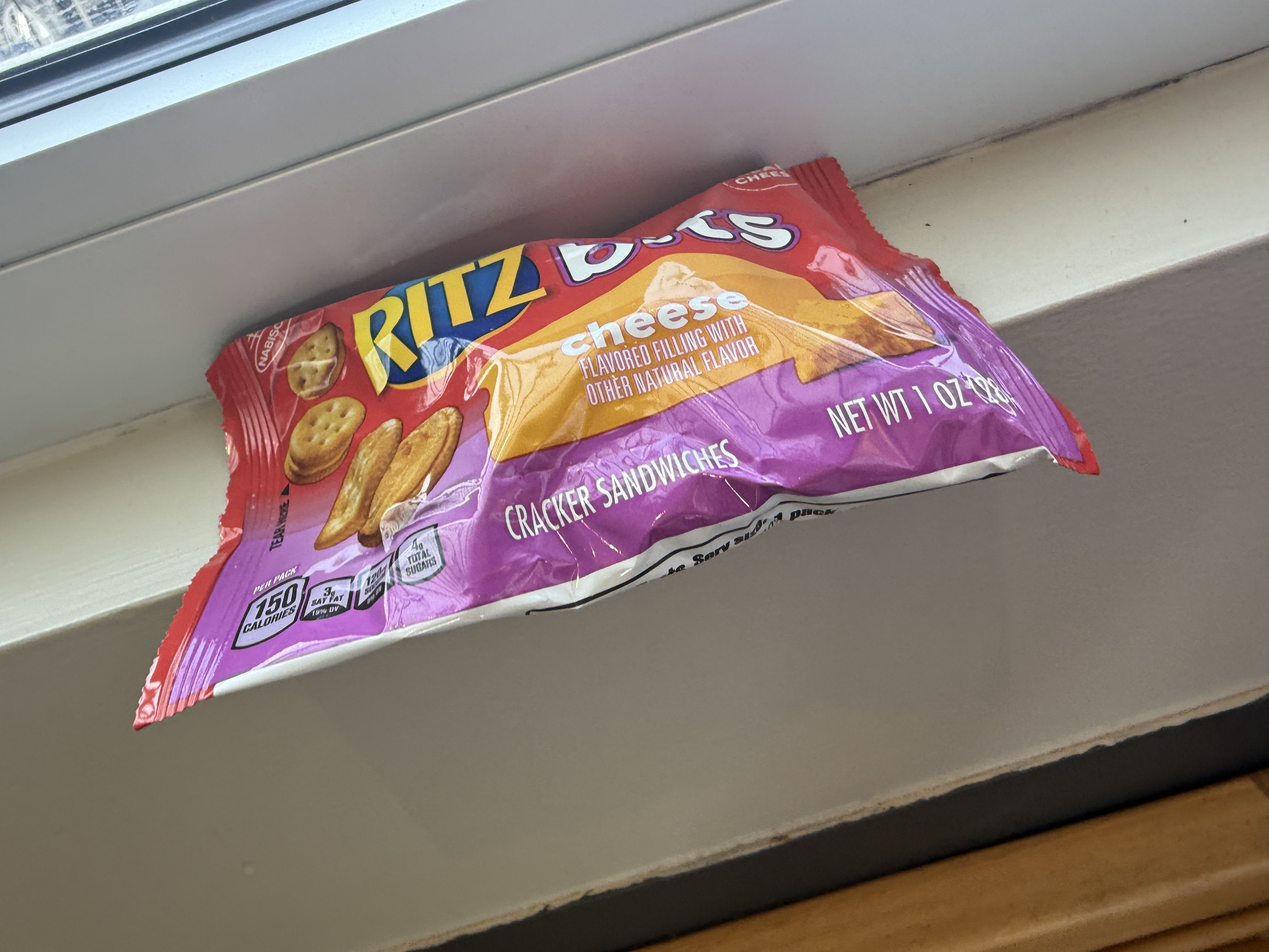ritz_cheese: (132, 362, 1004, 718)
